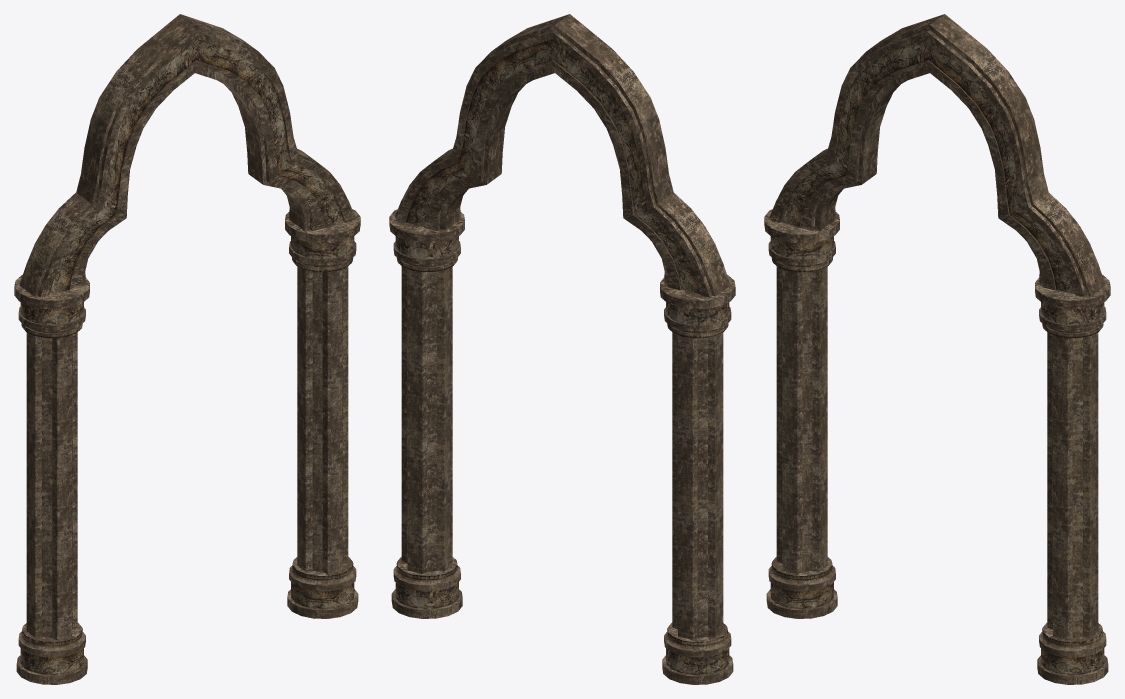
The model's file is materials_5_gate_14.fbx.
3 views of the same model, side by side, from view 1: azimuth 30°, elevation 25°; view 2: azimuth 150°, elevation 25°; view 3: azimuth 330°, elevation 25° (orthographic).
Visible parts, largest first — view 1: materials_5_gate_14; view 2: materials_5_gate_14; view 3: materials_5_gate_14.
Part boxes in pixels (x1,y1,x2,y2): materials_5_gate_14: (14,14,360,684); materials_5_gate_14: (389,14,735,684); materials_5_gate_14: (764,14,1110,684).
Size of the model in its own units: 168 by 295 by 33.02.
